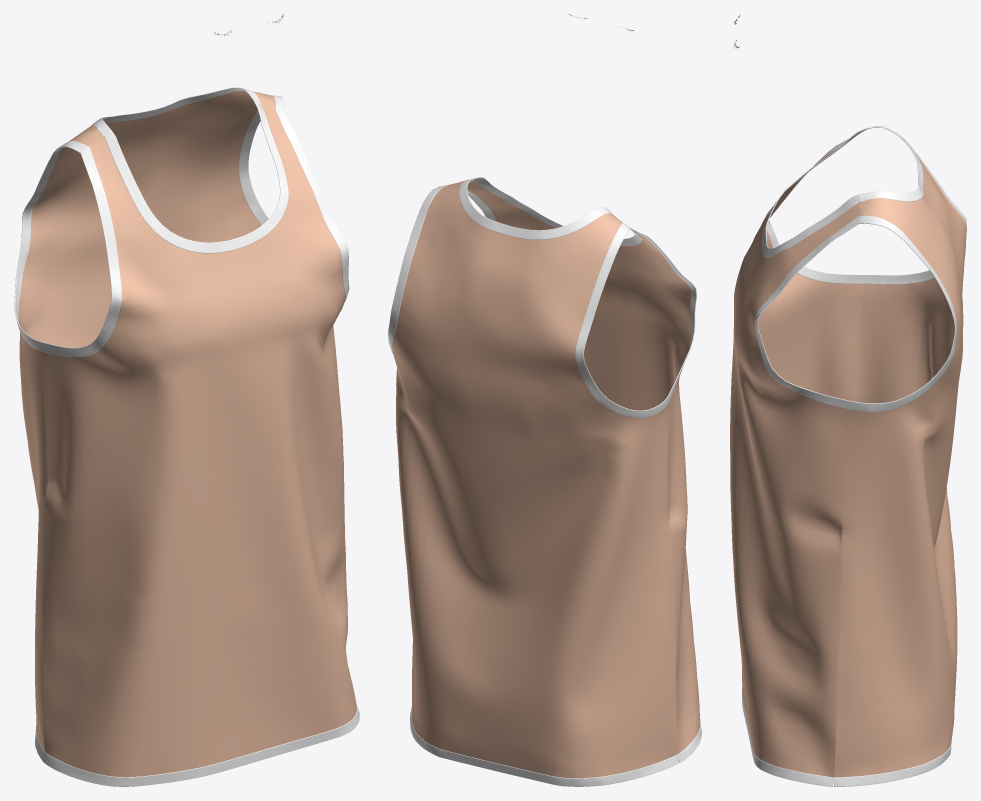
The model's file is cream_tank_top.glb.
The picture shows the model from 3 angles, left to right: view 1: azimuth 30°, elevation 25°; view 2: azimuth 150°, elevation 25°; view 3: azimuth 270°, elevation 25°; orthographic projection. The views are drawn at different scales.
Parts seen in each view (by area): view 1: Pattern2D_2690459, Pattern2D_2680898, Pattern2D_2700845, Pattern2D_2690458, Pattern2D_778114, Pattern2D_1097516, Pattern2D_778109, Pattern2D_1097520, Pattern2D_2782197; view 2: Pattern2D_2680898, Pattern2D_2690459, Pattern2D_2680897, Pattern2D_1097516, Pattern2D_2782197, Pattern2D_1097520, Pattern2D_2700845, Pattern2D_778114; view 3: Pattern2D_2680898, Pattern2D_2690459, Pattern2D_1097520, Pattern2D_778109, Pattern2D_2700845, Pattern2D_2680897, Pattern2D_778114, Pattern2D_2690458, Pattern2D_1097516, Pattern2D_2782197.
Boxes of the visible parts, <box> form: Pattern2D_2690459: <box>41,104,356,777</box>; Pattern2D_2680898: <box>18,90,275,750</box>; Pattern2D_2700845: <box>104,100,288,253</box>; Pattern2D_2690458: <box>42,704,359,786</box>; Pattern2D_778114: <box>39,147,121,356</box>; Pattern2D_1097516: <box>14,140,87,350</box>; Pattern2D_778109: <box>275,108,349,301</box>; Pattern2D_1097520: <box>238,95,284,225</box>; Pattern2D_2782197: <box>93,87,260,136</box>; Pattern2D_2680898: <box>392,181,677,778</box>; Pattern2D_2690459: <box>467,181,700,753</box>; Pattern2D_2680897: <box>410,709,678,786</box>; Pattern2D_1097516: <box>575,223,668,418</box>; Pattern2D_2782197: <box>459,177,609,239</box>; Pattern2D_1097520: <box>388,184,450,352</box>; Pattern2D_2700845: <box>474,177,642,245</box>; Pattern2D_778114: <box>622,222,696,403</box>; Pattern2D_2680898: <box>834,126,966,777</box>; Pattern2D_2690459: <box>730,131,863,777</box>; Pattern2D_1097520: <box>849,215,956,412</box>; Pattern2D_778109: <box>754,215,859,409</box>; Pattern2D_2700845: <box>762,128,865,257</box>; Pattern2D_2680897: <box>834,739,951,786</box>; Pattern2D_778114: <box>766,130,865,283</box>; Pattern2D_2690458: <box>742,688,833,786</box>; Pattern2D_1097516: <box>863,126,966,284</box>; Pattern2D_2782197: <box>860,126,923,202</box>.
Bounding box in the file's own units: 0.3493 × 0.8476 × 0.2622.
